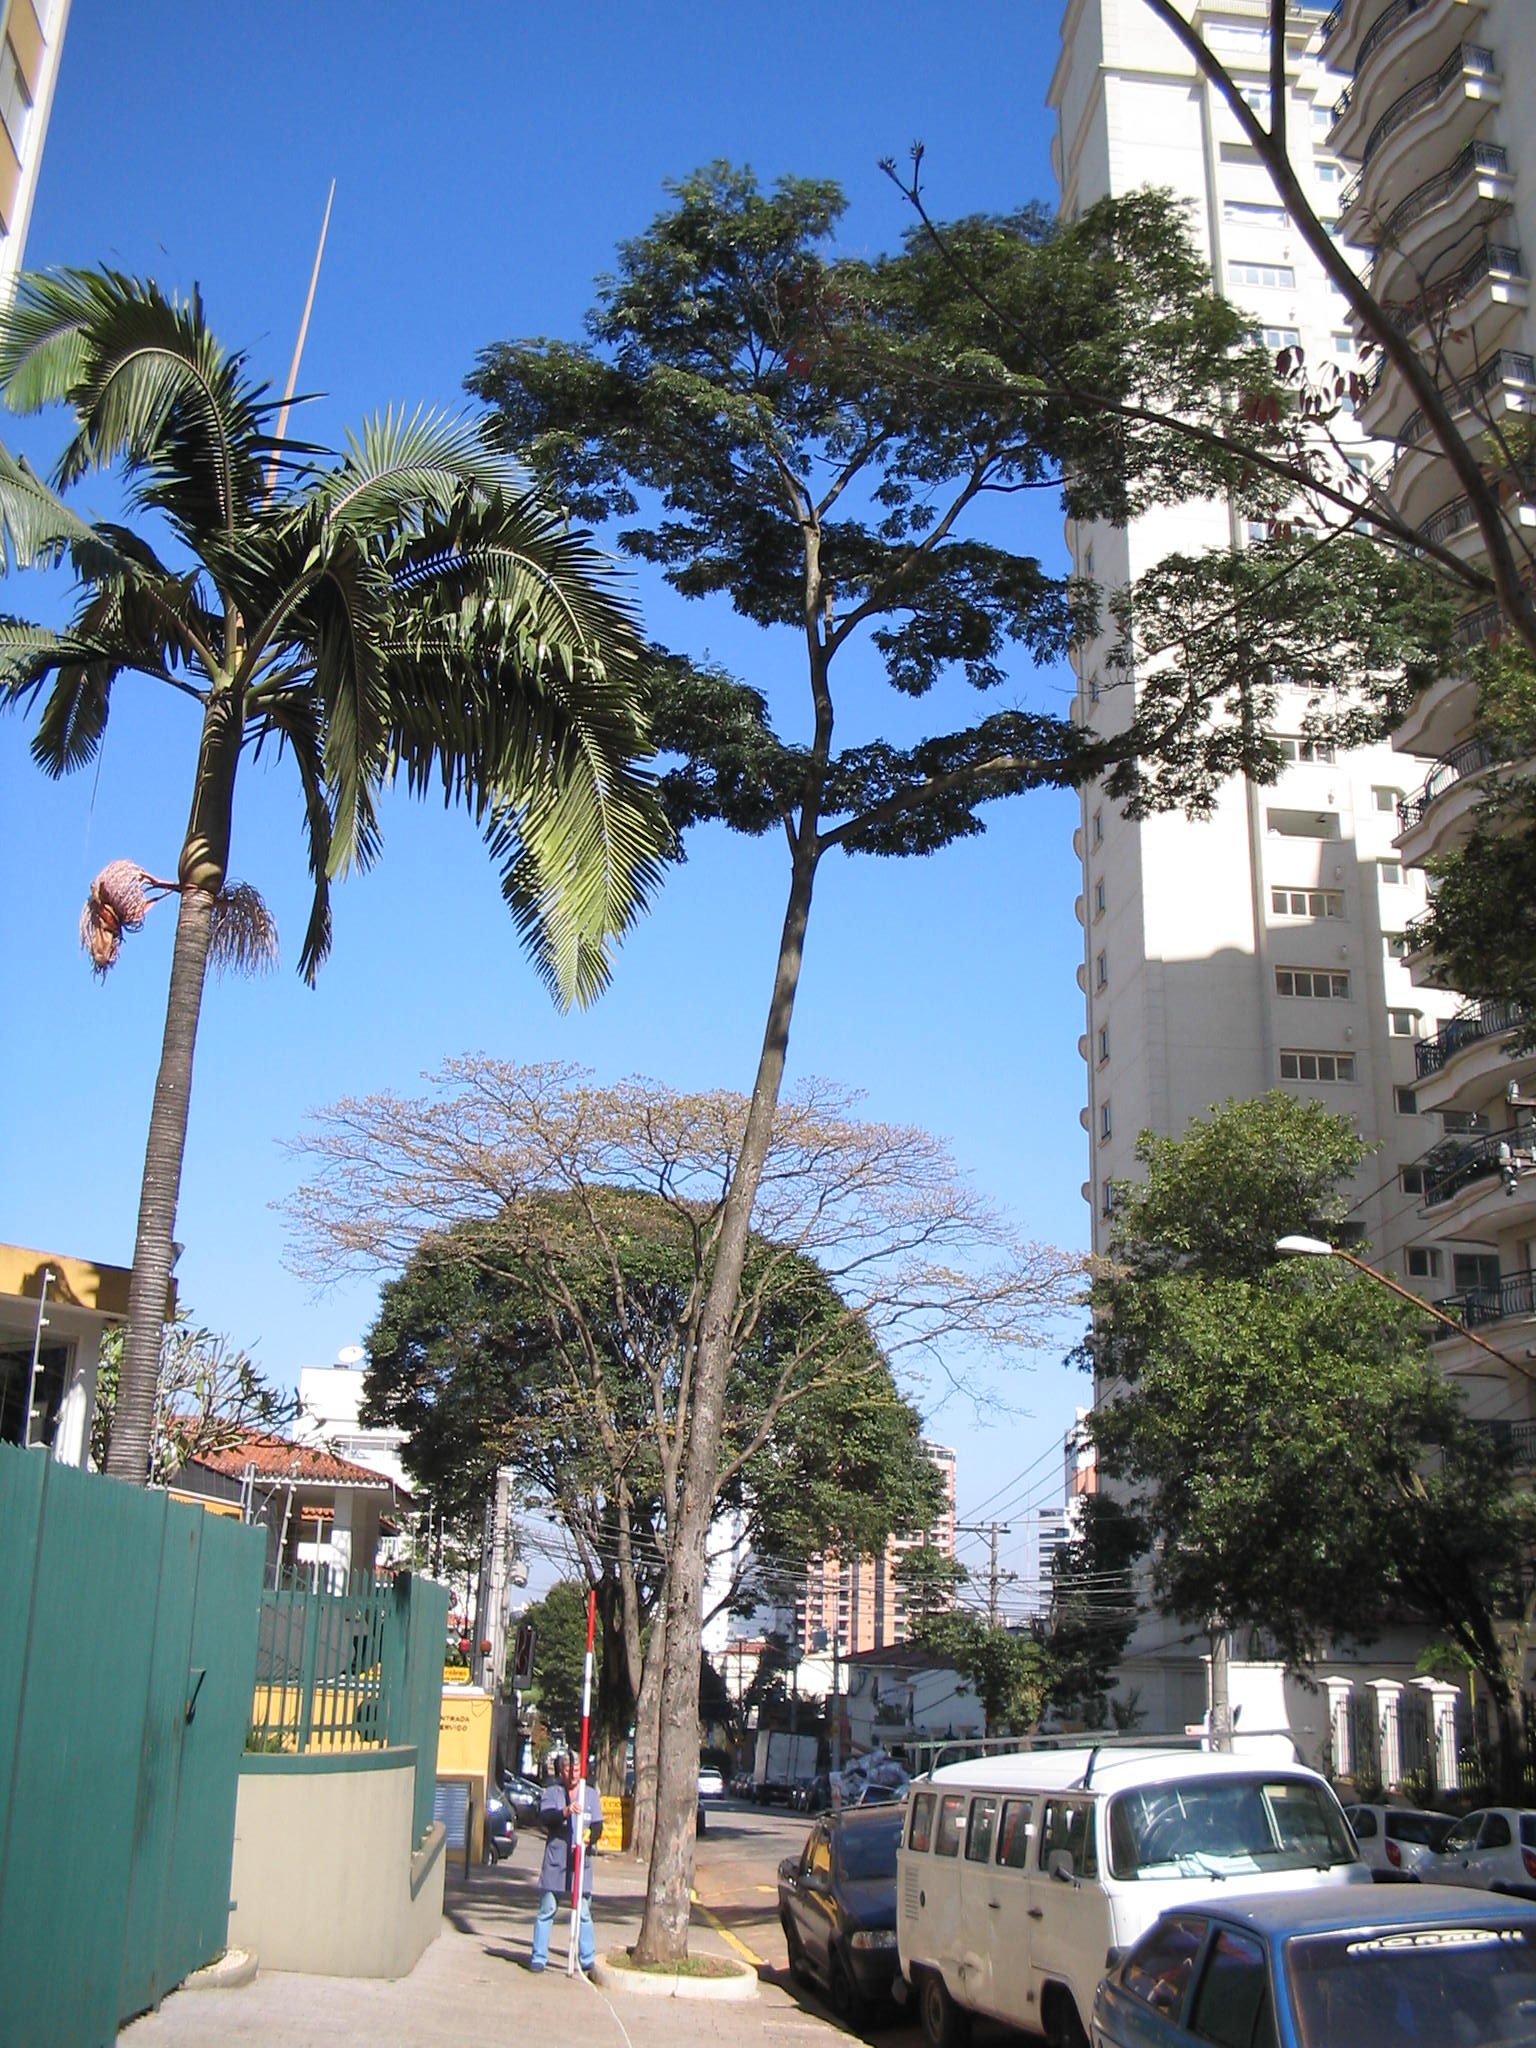crown: (473, 163, 1480, 937), (11, 261, 671, 1053), (1083, 1108, 1528, 1658)
stem: (629, 858, 836, 1953), (103, 732, 274, 1484)
stick: (545, 1584, 623, 1979)
tree: (465, 158, 1483, 1954), (2, 258, 682, 1490), (1066, 1100, 1536, 1808)
